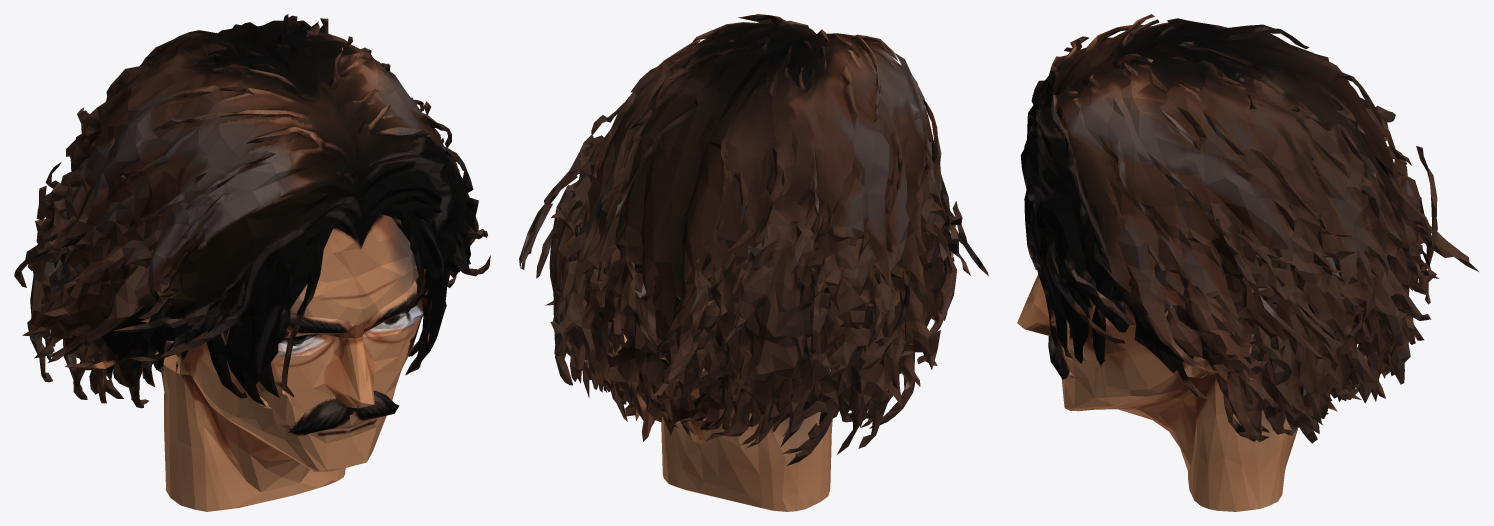
File: side_mantisenvoy_repaired_atlas.glb
The picture shows the model from 3 angles, left to right: view 1: azimuth 30°, elevation 25°; view 2: azimuth 150°, elevation 25°; view 3: azimuth 270°, elevation 25°; orthographic projection. The views are drawn at different scales.
Parts seen in each view (by area): view 1: temp_mesh.ply; view 2: temp_mesh.ply; view 3: temp_mesh.ply.
Boxes of the visible parts, x1=… form: temp_mesh.ply: x1=14, y1=14, x2=490, y2=511; temp_mesh.ply: x1=519, y1=14, x2=988, y2=511; temp_mesh.ply: x1=1017, y1=14, x2=1478, y2=511.
Bounding box in the file's own units: 1.33 × 1.39 × 1.34.
1 material, 1 textured.
